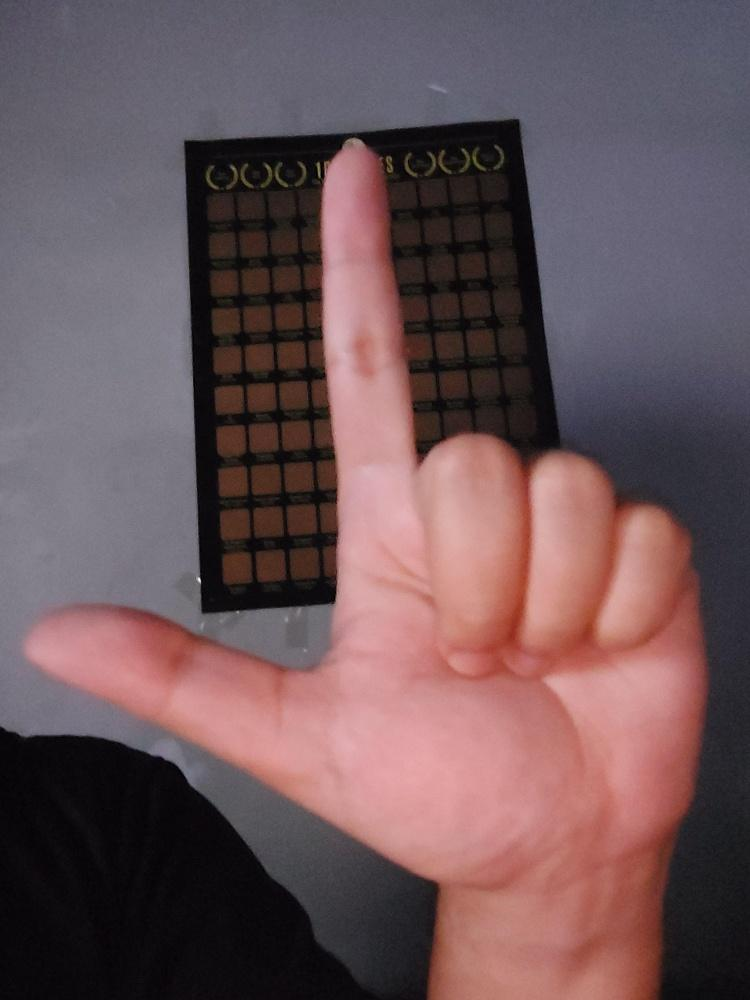l: (22, 132, 704, 870)
